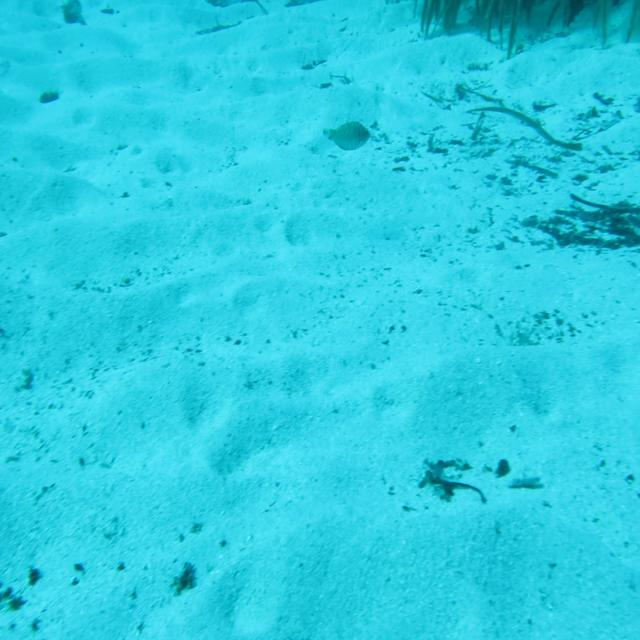SA: (320, 114, 377, 160)
